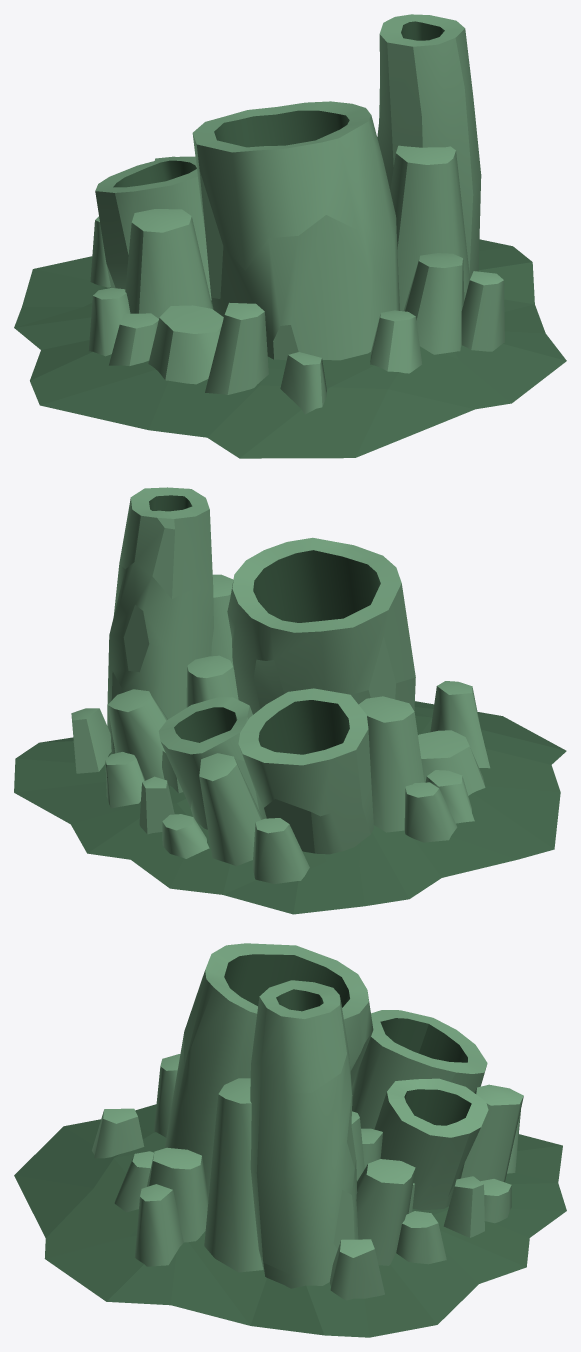
The model's file is coral_tube_set_E_medium.fbx.
The picture shows the model from 3 angles, top to bottom: view 1: azimuth 30°, elevation 25°; view 2: azimuth 150°, elevation 25°; view 3: azimuth 270°, elevation 25°; orthographic projection. The views are drawn at different scales.
Visible parts, largest first — view 1: coral_tube_set_E_medium_base, coral_tube_set_E_medium_A, coral_tube_set_E_medium_D, coral_tube_set_E_medium_small_B, coral_tube_set_E_medium_small_A, coral_tube_set_E_medium_B, coral_tube_set_E_medium_small_D, coral_tube_set_E_medium_small_E, coral_tube_set_E_medium_small_G, coral_tube_set_E_medium_small_I, coral_tube_set_E_medium_small_L, coral_tube_set_E_medium_small_R (+3 smaller); view 2: coral_tube_set_E_medium_base, coral_tube_set_E_medium_A, coral_tube_set_E_medium_D, coral_tube_set_E_medium_B, coral_tube_set_E_medium_C, coral_tube_set_E_medium_small_A, coral_tube_set_E_medium_small_F, coral_tube_set_E_medium_small_H, coral_tube_set_E_medium_small_P, coral_tube_set_E_medium_small_G, coral_tube_set_E_medium_small_E, coral_tube_set_E_medium_small_K (+7 smaller); view 3: coral_tube_set_E_medium_base, coral_tube_set_E_medium_D, coral_tube_set_E_medium_A, coral_tube_set_E_medium_C, coral_tube_set_E_medium_B, coral_tube_set_E_medium_small_B, coral_tube_set_E_medium_small_H, coral_tube_set_E_medium_small_F, coral_tube_set_E_medium_small_D, coral_tube_set_E_medium_small_I, coral_tube_set_E_medium_small_N, coral_tube_set_E_medium_small_O (+7 smaller).
Part boxes in pixels (left/top/right/bottom): coral_tube_set_E_medium_base: left=14, top=239, right=566, bottom=458; coral_tube_set_E_medium_A: left=192, top=101, right=400, bottom=360; coral_tube_set_E_medium_D: left=377, top=14, right=481, bottom=278; coral_tube_set_E_medium_small_B: left=390, top=145, right=469, bottom=311; coral_tube_set_E_medium_small_A: left=125, top=209, right=212, bottom=318; coral_tube_set_E_medium_B: left=95, top=156, right=211, bottom=300; coral_tube_set_E_medium_small_D: left=403, top=253, right=464, bottom=354; coral_tube_set_E_medium_small_E: left=148, top=305, right=223, bottom=384; coral_tube_set_E_medium_small_G: left=205, top=302, right=268, bottom=394; coral_tube_set_E_medium_small_I: left=461, top=271, right=504, bottom=351; coral_tube_set_E_medium_small_L: left=370, top=310, right=422, bottom=373; coral_tube_set_E_medium_small_R: left=280, top=352, right=326, bottom=414; coral_tube_set_E_medium_base: left=14, top=701, right=566, bottom=914; coral_tube_set_E_medium_A: left=227, top=537, right=415, bottom=714; coral_tube_set_E_medium_D: left=107, top=487, right=213, bottom=753; coral_tube_set_E_medium_B: left=238, top=688, right=373, bottom=854; coral_tube_set_E_medium_C: left=158, top=697, right=259, bottom=829; coral_tube_set_E_medium_small_A: left=358, top=696, right=424, bottom=832; coral_tube_set_E_medium_small_F: left=199, top=753, right=262, bottom=866; coral_tube_set_E_medium_small_H: left=107, top=689, right=167, bottom=780; coral_tube_set_E_medium_small_P: left=252, top=818, right=309, bottom=883; coral_tube_set_E_medium_small_G: left=430, top=681, right=490, bottom=768; coral_tube_set_E_medium_small_E: left=418, top=730, right=485, bottom=795; coral_tube_set_E_medium_small_K: left=404, top=782, right=457, bottom=842; coral_tube_set_E_medium_base: left=14, top=1104, right=566, bottom=1337; coral_tube_set_E_medium_D: left=250, top=980, right=358, bottom=1288; coral_tube_set_E_medium_A: left=164, top=943, right=373, bottom=1198; coral_tube_set_E_medium_C: left=374, top=1078, right=488, bottom=1210; coral_tube_set_E_medium_B: left=352, top=1010, right=487, bottom=1129; coral_tube_set_E_medium_small_B: left=204, top=1078, right=263, bottom=1272; coral_tube_set_E_medium_small_H: left=356, top=1159, right=415, bottom=1265; coral_tube_set_E_medium_small_F: left=461, top=1084, right=523, bottom=1182; coral_tube_set_E_medium_small_D: left=147, top=1147, right=208, bottom=1242; coral_tube_set_E_medium_small_I: left=134, top=1184, right=183, bottom=1266; coral_tube_set_E_medium_small_N: left=329, top=1239, right=384, bottom=1300; coral_tube_set_E_medium_small_O: left=396, top=1211, right=446, bottom=1264.
Size of the model in its own units: 84.12 by 46.41 by 76.65.
